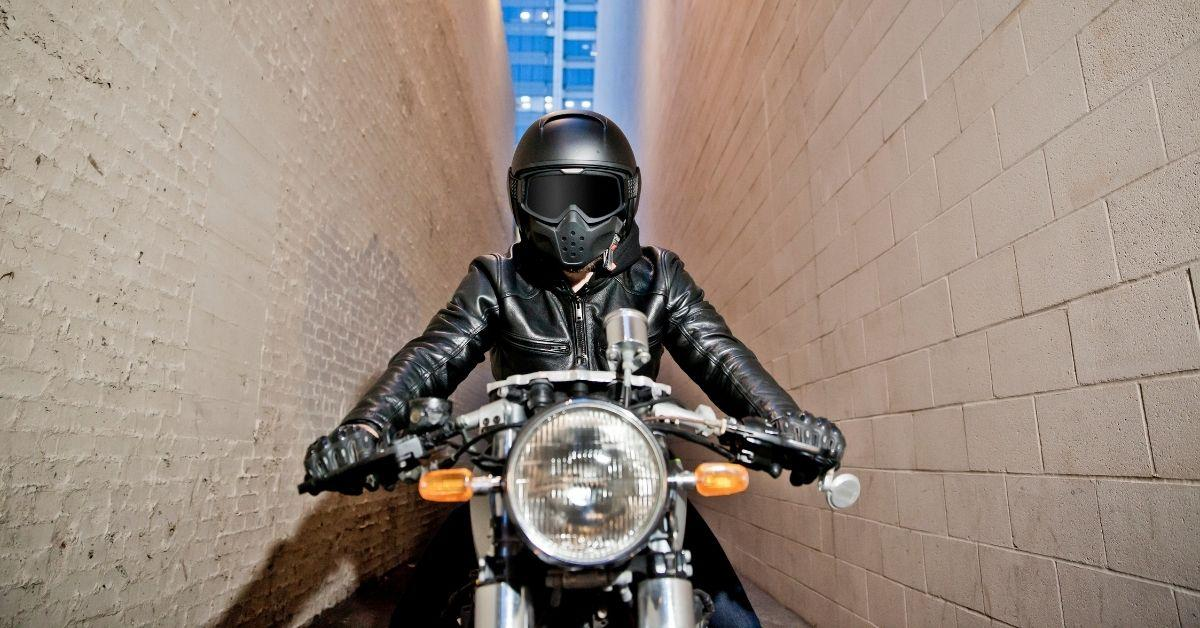Helmet: (509, 111, 640, 270)
